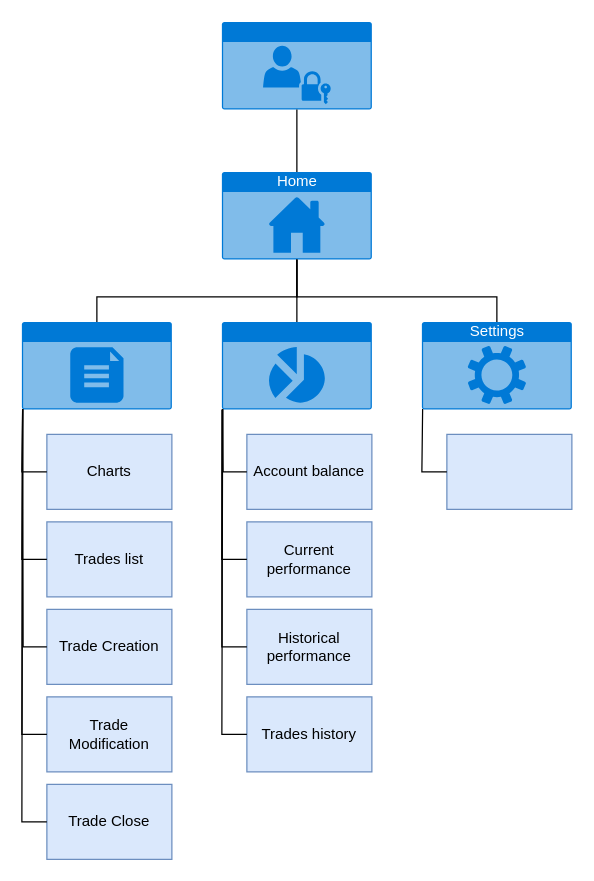
Some shapes in this 594 by 881 pixel diagram are drawn without their labels. The shapes that lost their labels are listed below. From the top down, each one's centre as x and y in pixels, then its label:
the point at 296,65: Login
the point at 96,365: Trades
the point at 296,365: Statistics
the point at 509,471: Binance API settings
